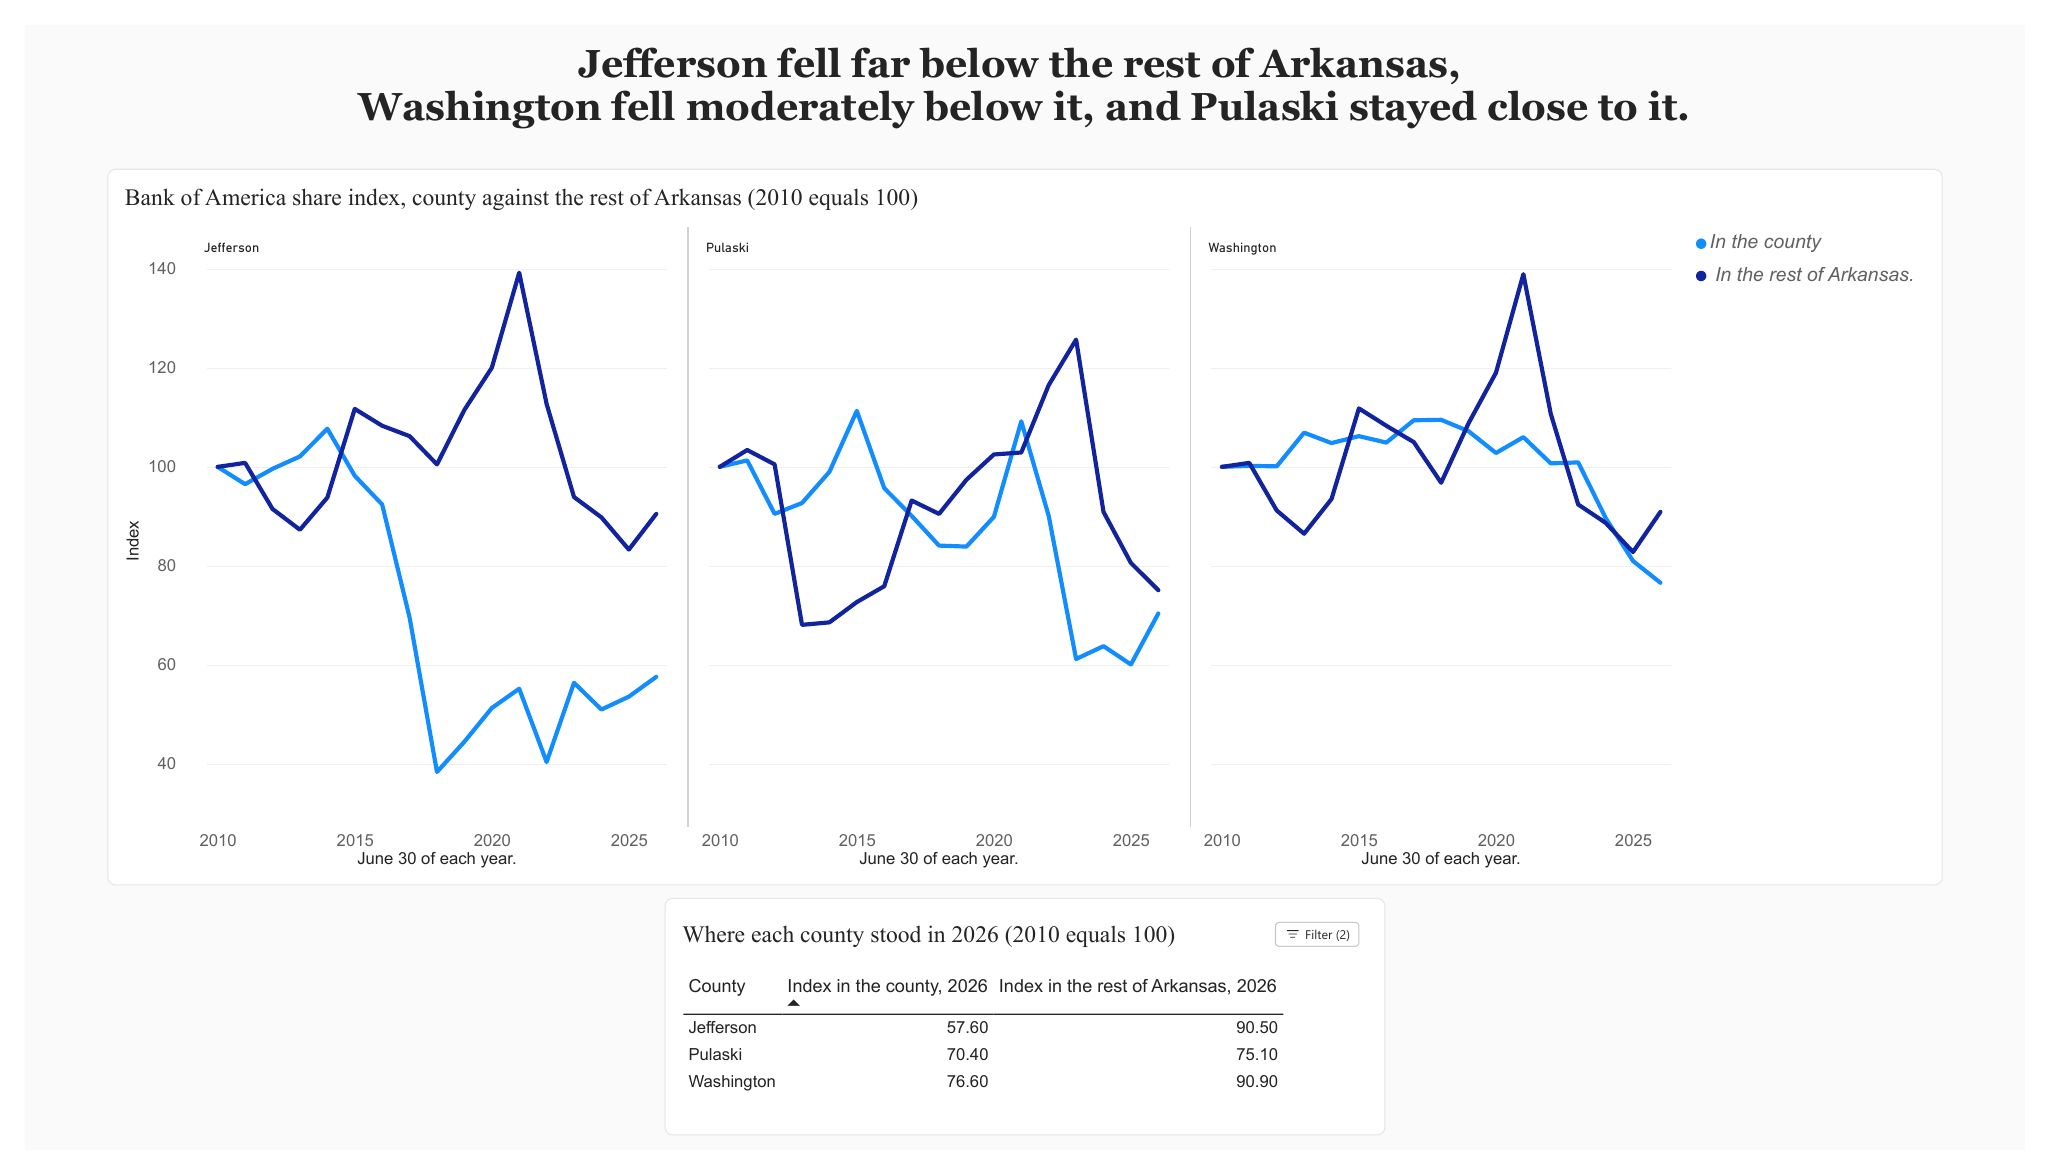

Layout of this report page (visuals, bound fields, positions):
{"tool":"powerbi","page":{"name":"Benchmarks","canvas":[1920,1080],"ordinal":1},"visuals":[{"type":"lineChart","title":" Bank of America share index, county against the rest of Arkansas (2010 equals 100)","fields":{"Category":["cln vw_BoA_vs_Rest.sod_year"],"Rows":["cln vw_BoA_vs_Rest.county_name"],"Y":["Sum(cln vw_BoA_vs_Rest.county_index)","Sum(cln vw_BoA_vs_Rest.rest_index)"]},"box":[78.8,137.9,1762.4,687.8],"z":0},{"type":"tableEx","title":"Where each county stood in 2026 (2010 equals 100)","fields":{"Values":["cln vw_BoA_vs_Rest.county_name","cln vw_BoA_vs_Rest.county_index","cln vw_BoA_vs_Rest.rest_index"]},"box":[614.3,838.2,691.3,227.5],"z":1000},{"type":"textbox","box":[98.5,16.1,1721.2,96.7],"z":2000}]}

Visuals, with their boxes in screenshot pixels (x1, y1, x2, y2), scaled from the page's 1920x1080 canvas onto the 2050x1175 screenshot:
" Bank of America share index, county against the rest of Arkansas (2010 equals 100)" lineChart: box=[84, 150, 1966, 898]
"Where each county stood in 2026 (2010 equals 100)" tableEx: box=[656, 912, 1394, 1159]
textbox: box=[105, 18, 1943, 123]
